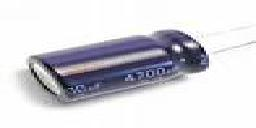Electrolytic Capacitor: (21, 26, 256, 103)
